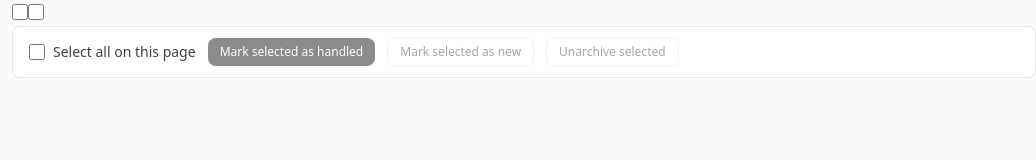
it: BulkActionBar — buttons enable once an inquiry is selected › enables 'Unarchive selected' after checking one item (unarchive mode)
Click the 1st checkbox named "Select inquiry": (20, 12) top-left (12, 4), bottom-right (28, 20)
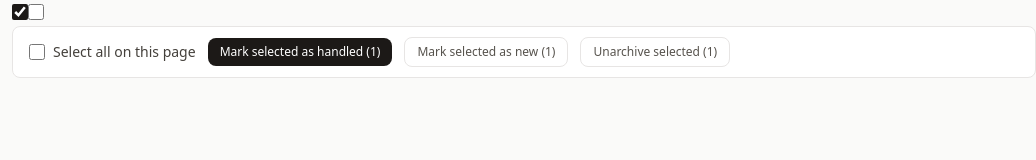
Check: the button "Unarchive selected (1)" is enabled, box top-left (580, 37), bottom-right (730, 67)
